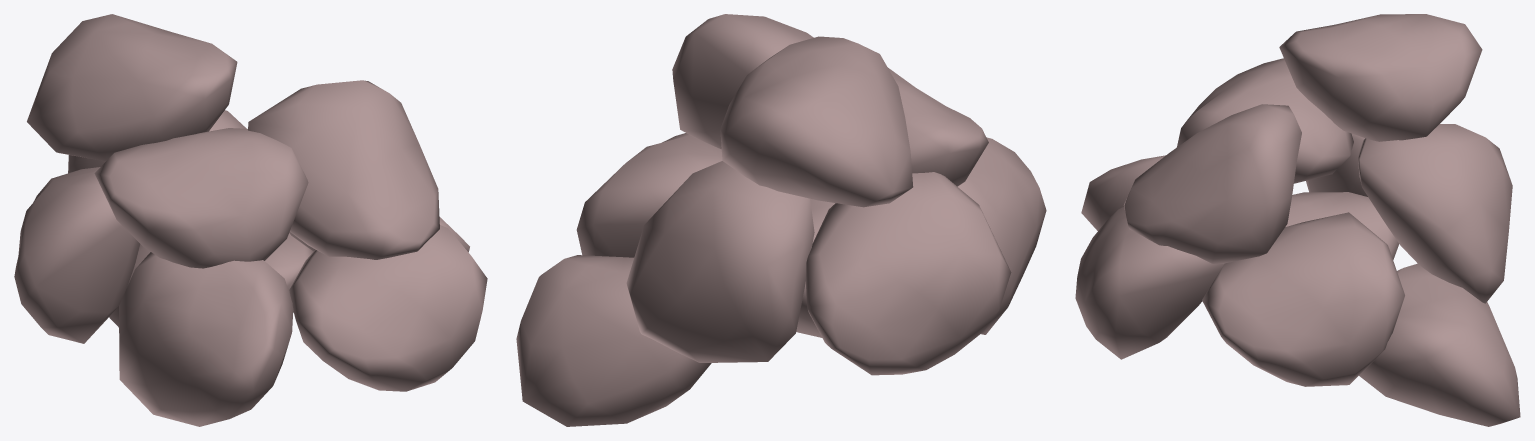
Rendered from breakableWalls.fbx.
3 views of the same model, side by side, from view 1: azimuth 30°, elevation 25°; view 2: azimuth 150°, elevation 25°; view 3: azimuth 270°, elevation 25° (orthographic). The views are drawn at different scales.
Visible parts, largest first — view 1: rock4, rock7, rock3, rock8, rock9, rock6, rock1, rock5; view 2: rock6, rock5, rock9, rock10, rock7, rock2, rock4, rock8, rock1; view 3: rock2, rock7, rock9, rock5, rock10, rock3, rock8, rock1, rock4, rock6.
Part boxes in pixels (x1=…): rock4: x1=119, y1=252, x2=293, y2=426; rock7: x1=248, y1=80, x2=439, y2=259; rock3: x1=289, y1=225, x2=487, y2=391; rock8: x1=94, y1=128, x2=308, y2=268; rock9: x1=27, y1=14, x2=237, y2=161; rock6: x1=14, y1=167, x2=139, y2=343; rock1: x1=109, y1=234, x2=313, y2=327; rock5: x1=68, y1=110, x2=246, y2=173; rock6: x1=806, y1=172, x2=1011, y2=375; rock5: x1=626, y1=161, x2=814, y2=362; rock9: x1=720, y1=36, x2=913, y2=207; rock10: x1=516, y1=255, x2=711, y2=426; rock7: x1=672, y1=14, x2=813, y2=149; rock2: x1=576, y1=133, x2=722, y2=257; rock4: x1=957, y1=137, x2=1046, y2=334; rock8: x1=888, y1=68, x2=988, y2=186; rock1: x1=796, y1=198, x2=835, y2=337; rock2: x1=1202, y1=212, x2=1404, y2=386; rock7: x1=1124, y1=104, x2=1301, y2=263; rock9: x1=1279, y1=14, x2=1482, y2=141; rock5: x1=1358, y1=124, x2=1512, y2=303; rock10: x1=1359, y1=263, x2=1520, y2=426; rock3: x1=1075, y1=207, x2=1223, y2=359; rock8: x1=1177, y1=58, x2=1353, y2=183; rock1: x1=1285, y1=192, x2=1398, y2=259; rock4: x1=1081, y1=155, x2=1165, y2=230; rock6: x1=1306, y1=133, x2=1367, y2=196.
Size of the model in its own units: 7.07 by 5.58 by 7.13.
